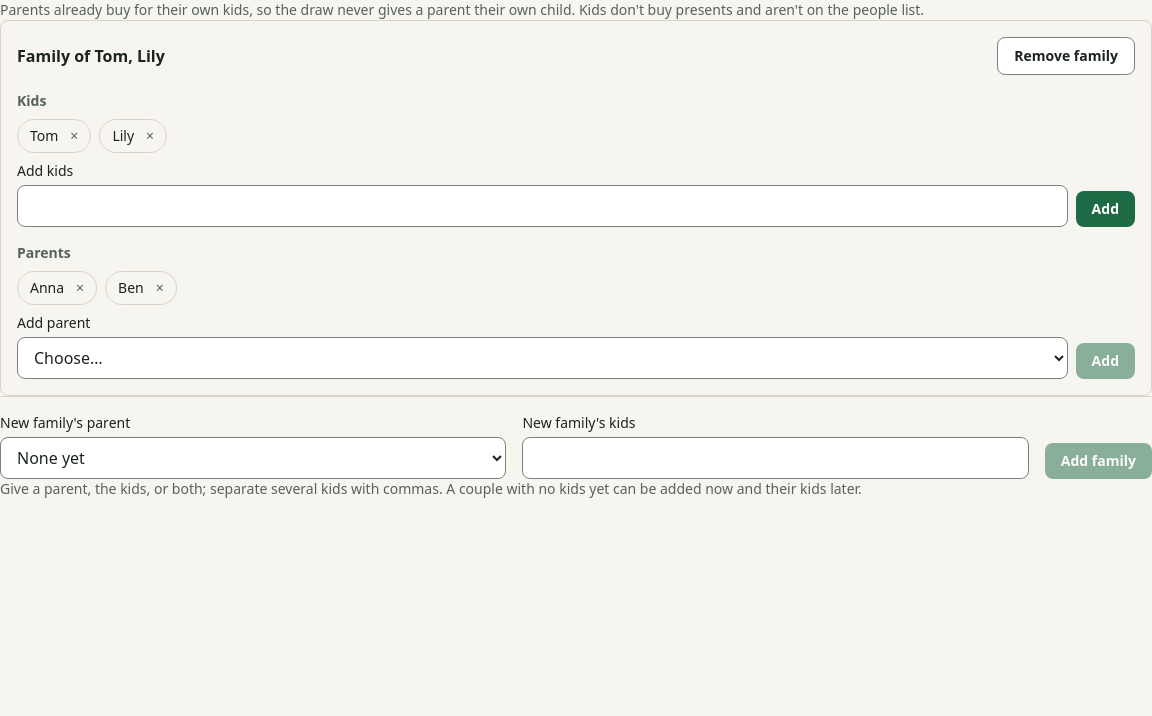
Test: FamilyList › skips a child who is already in another family
In the field labelled "New family's kids": (776, 458) x1=522 y1=437 x2=1029 y2=479, type "tom, Max"
Then press Enter
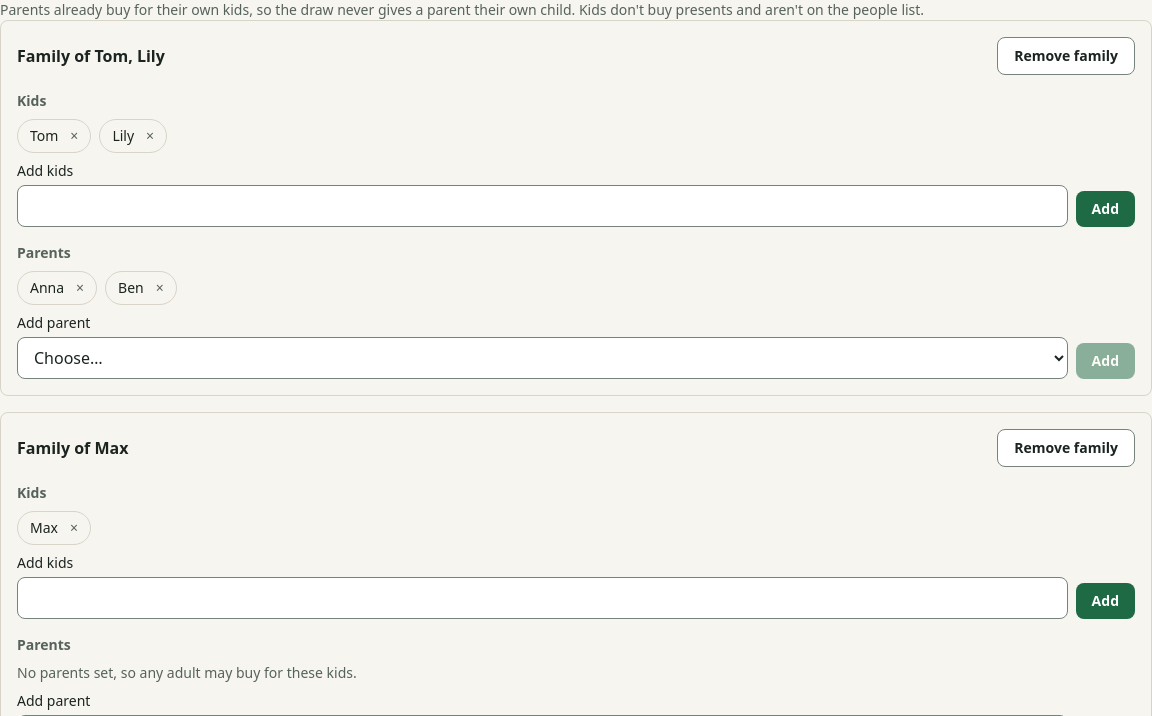
Result: the heading "Family of Max" is shown at x1=17 y1=436 x2=128 y2=460
